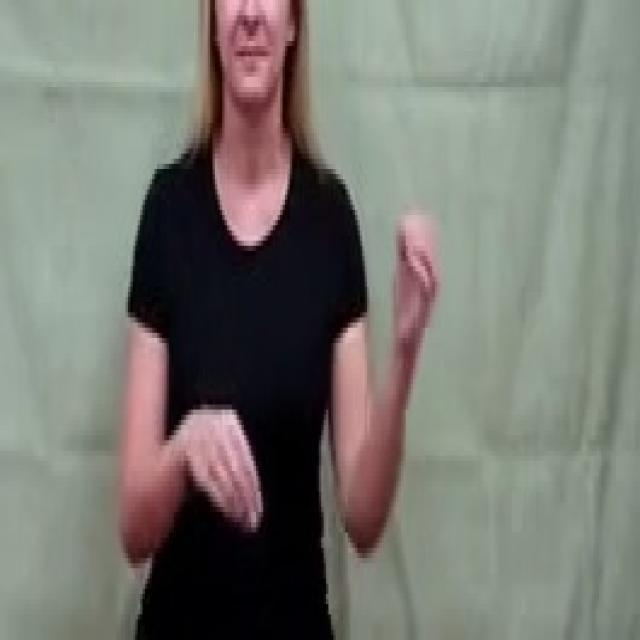ingredients: (181, 407, 274, 542), (390, 216, 440, 348)
